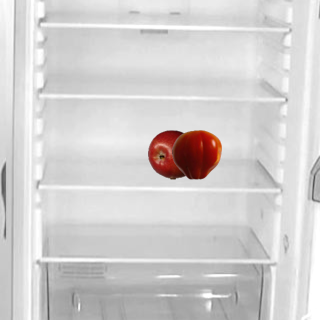Apple Braeburn: (147, 129, 197, 179)
Tomato 1: (171, 129, 221, 179)
